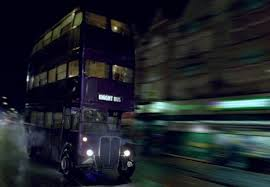bus: (20, 6, 139, 178)
